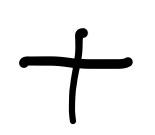plus: (19, 28, 133, 124)
